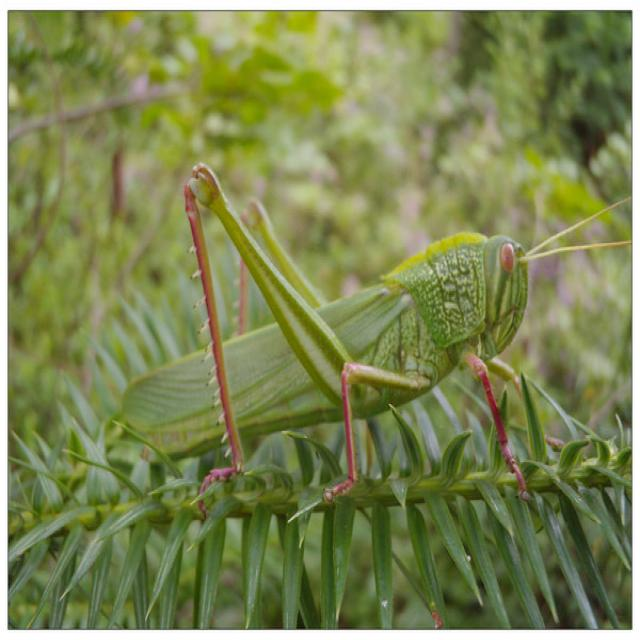ZhaMeng: (100, 163, 582, 487)
